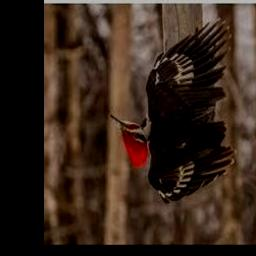Woodpecker: (110, 18, 236, 204)
